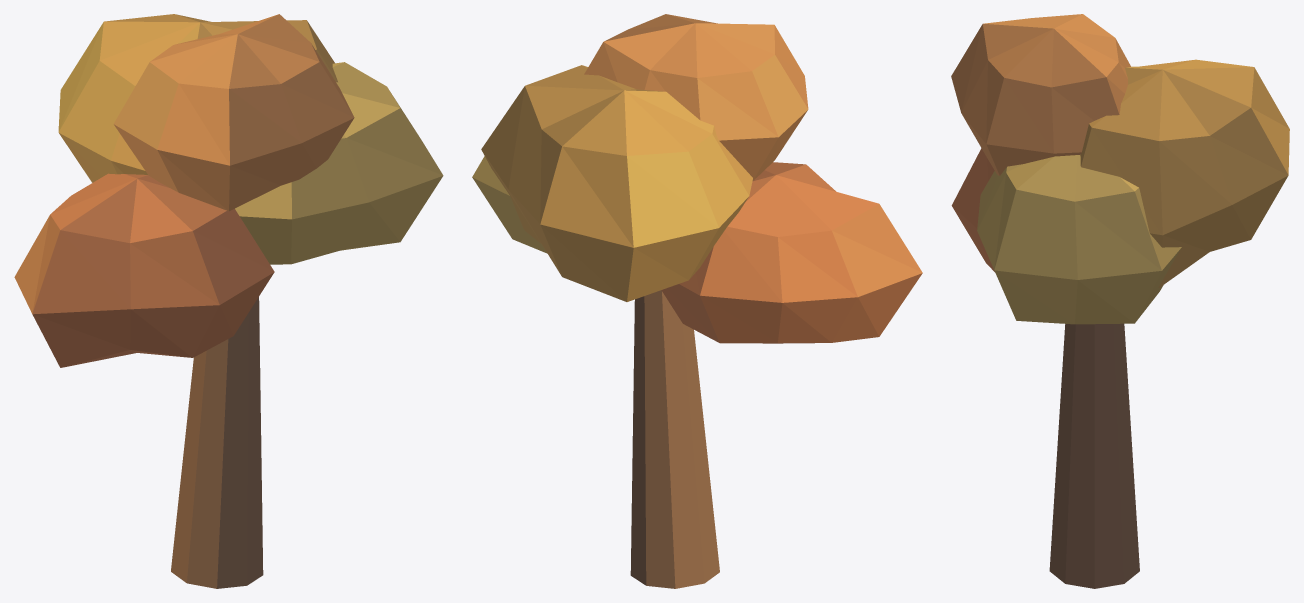
File: forage_6_autumn.glb
The picture shows the model from 3 angles, left to right: view 1: azimuth 30°, elevation 25°; view 2: azimuth 150°, elevation 25°; view 3: azimuth 270°, elevation 25°; orthographic projection. The views are drawn at different scales.
Parts seen in each view (by area): view 1: Rohstoff 6 · autumn; view 2: Rohstoff 6 · autumn; view 3: Rohstoff 6 · autumn.
Boxes of the visible parts, x1=… form: Rohstoff 6 · autumn: x1=14, y1=14, x2=443, y2=588; Rohstoff 6 · autumn: x1=472, y1=14, x2=922, y2=588; Rohstoff 6 · autumn: x1=951, y1=14, x2=1289, y2=588.
Size of the model in its own units: 2.76 by 3.51 by 1.99.
